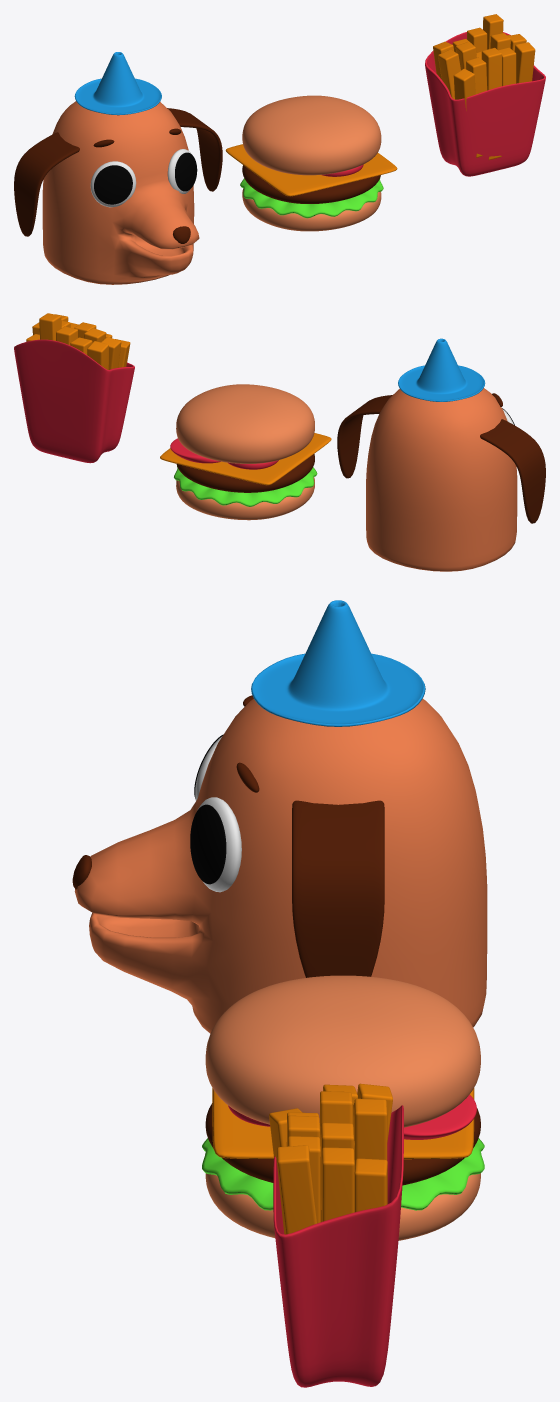
Rendered from first_design2.gltf.
3 renders of one model, top to bottom at view 1: azimuth 30°, elevation 25°; view 2: azimuth 150°, elevation 25°; view 3: azimuth 270°, elevation 25°, orthographic. The views are drawn at different scales.
Parts seen in each view (by area): view 1: Cube.007, Cube.001, Cube.006, Cube.017, Plane.001, Circle.001, Plane, Cube.002, Sphere.001, Circle, Cube, Sphere; view 2: Cube.007, Cube.006, Cube.001, Plane.001, Circle.001, Cube.017, Plane, Cube.002, Circle, Cube, Cube.004; view 3: Cube.007, Cube.001, Cube.006, Plane.001, Cube.017, Circle.001, Plane, Cube.002, Circle, Sphere.001, Cube, Sphere (+1 smaller).
Boxes of the visible parts, box(x1,y1,x2,y2) form: Cube.007: box(42, 101, 199, 284); Cube.001: box(242, 95, 381, 175); Cube.006: box(425, 32, 545, 176); Cube.017: box(433, 14, 535, 159); Plane.001: box(14, 108, 222, 236); Circle.001: box(74, 52, 161, 115); Plane: box(225, 144, 397, 196); Cube.002: box(242, 188, 381, 231); Sphere.001: box(94, 152, 197, 204); Circle: box(240, 178, 383, 218); Cube: box(242, 165, 380, 203); Sphere: box(90, 149, 191, 207); Cube.007: box(366, 388, 517, 571); Cube.006: box(14, 339, 134, 463); Cube.001: box(176, 384, 314, 463); Plane.001: box(337, 395, 545, 523); Circle.001: box(398, 338, 485, 401); Cube.017: box(26, 313, 130, 369); Plane: box(160, 433, 331, 485); Cube.002: box(176, 477, 314, 520); Circle: box(174, 466, 317, 506); Cube: box(176, 454, 314, 492); Cube.004: box(170, 438, 220, 463); Cube.007: box(74, 699, 487, 1033); Cube.001: box(205, 975, 480, 1127); Cube.006: box(273, 1105, 403, 1387); Plane.001: box(292, 800, 384, 977); Cube.017: box(269, 1083, 392, 1234); Circle.001: box(251, 600, 425, 726); Plane: box(212, 1088, 474, 1159); Cube.002: box(205, 1173, 480, 1240); Circle: box(202, 1138, 484, 1210); Sphere.001: box(190, 734, 226, 884); Cube: box(205, 1103, 480, 1185); Sphere: box(195, 736, 241, 892).
Bounding box in the file's own units: 10.3 × 3.89 × 3.64.
